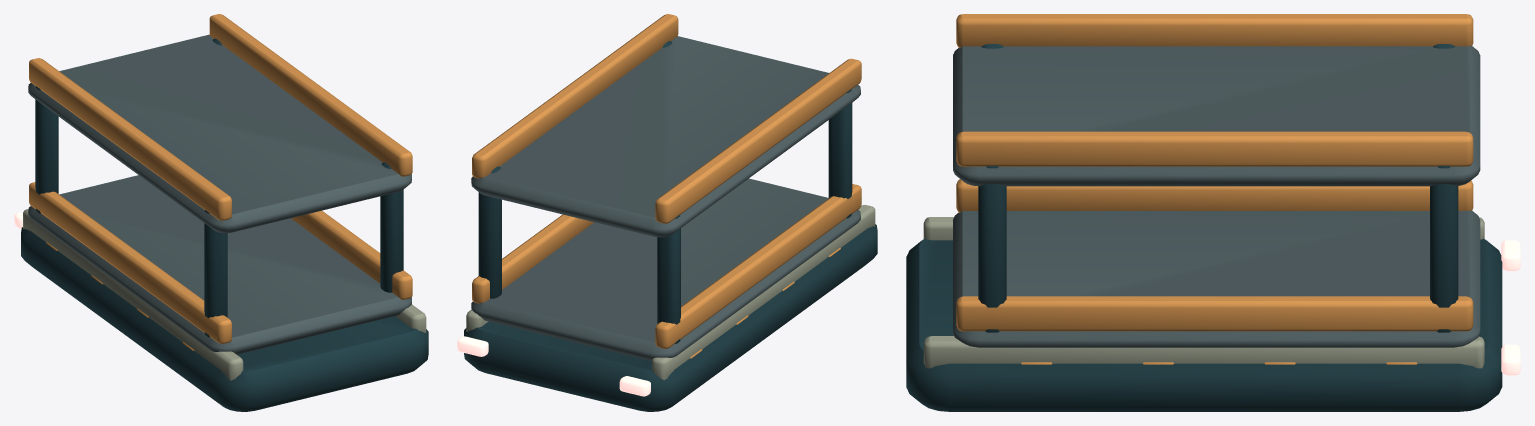
Rendered from autos.glb.
3 views of the same model, side by side, from view 1: azimuth 30°, elevation 25°; view 2: azimuth 150°, elevation 25°; view 3: azimuth 270°, elevation 25° (orthographic). The views are drawn at different scales.
Visible parts, largest first — view 1: Autos; view 2: Autos; view 3: Autos.
Boxes of the visible parts, box(x1,y1,x2,y2) form: Autos: box(14, 14, 428, 411); Autos: box(457, 14, 877, 411); Autos: box(906, 14, 1520, 411).
Bounding box in the file's own units: 1.83 × 1.71 × 3.49.
